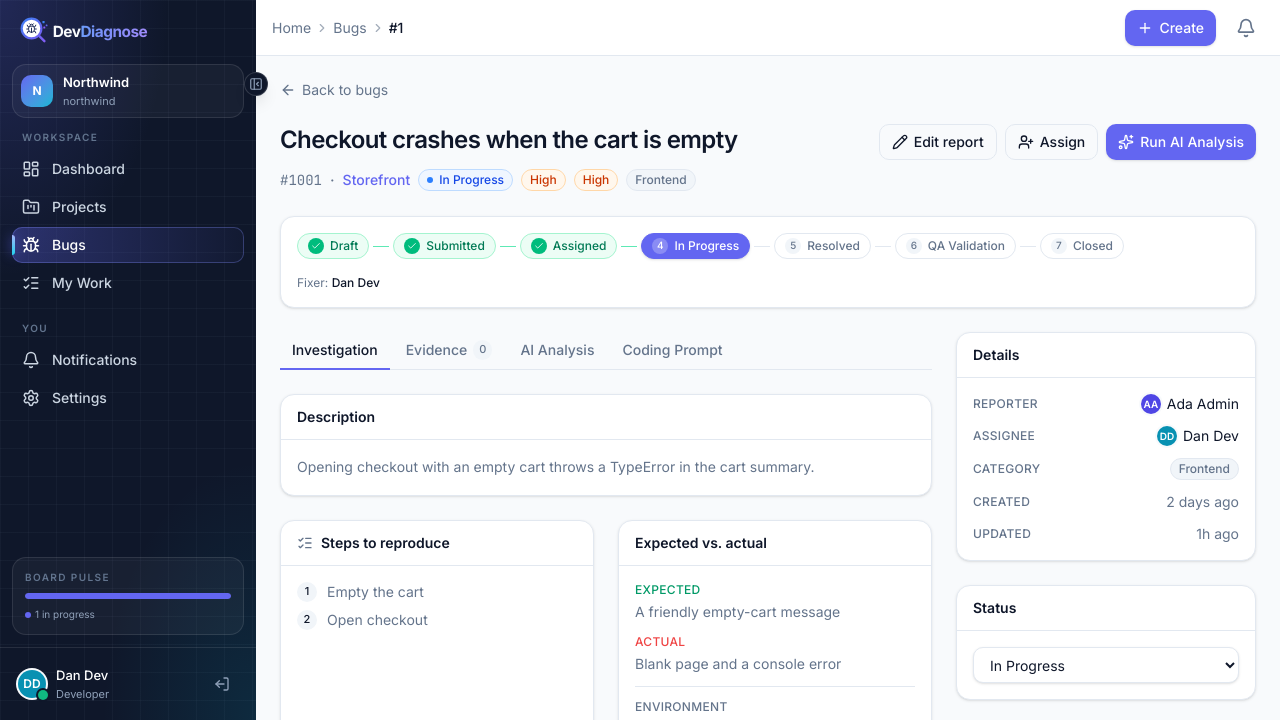
Scenario: bug workflow transitions › offers a Developer only their transitions and applies the chosen one
Select "Resolved" in the dropdown: (1106, 665) [973, 647, 1239, 683]
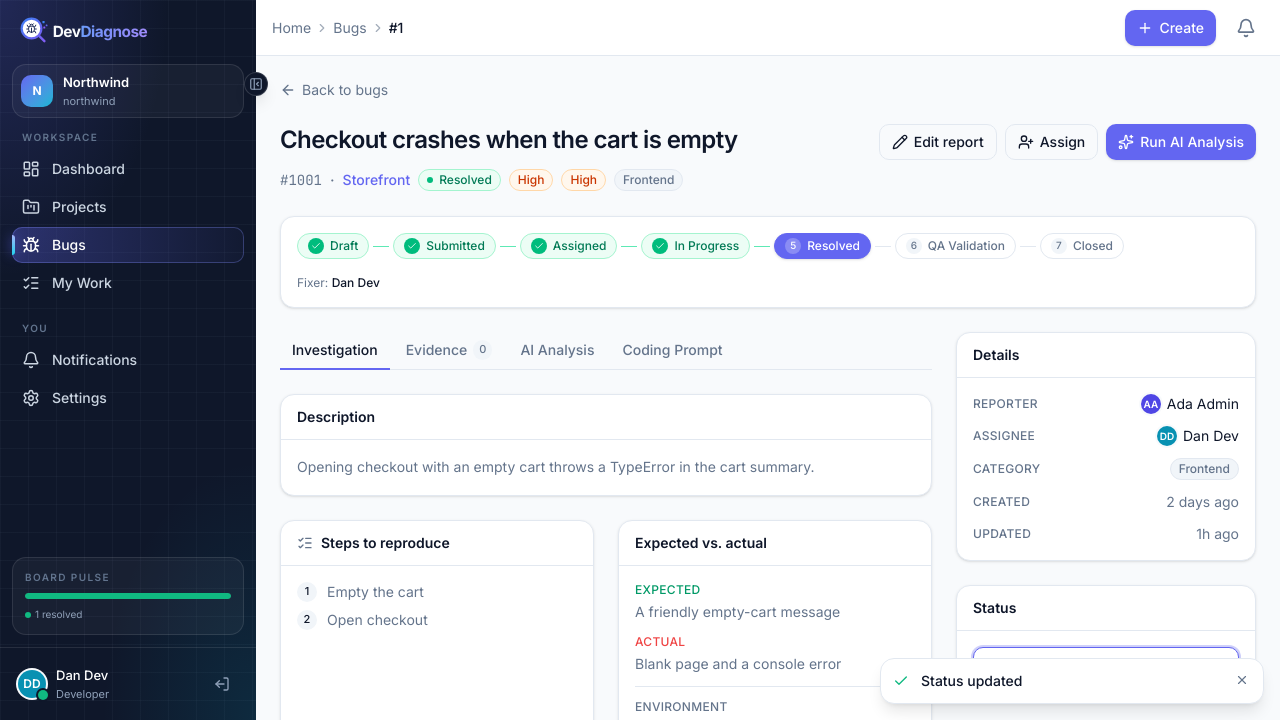
Expected: the text "Status updated" is shown, [921, 672, 1022, 689]
